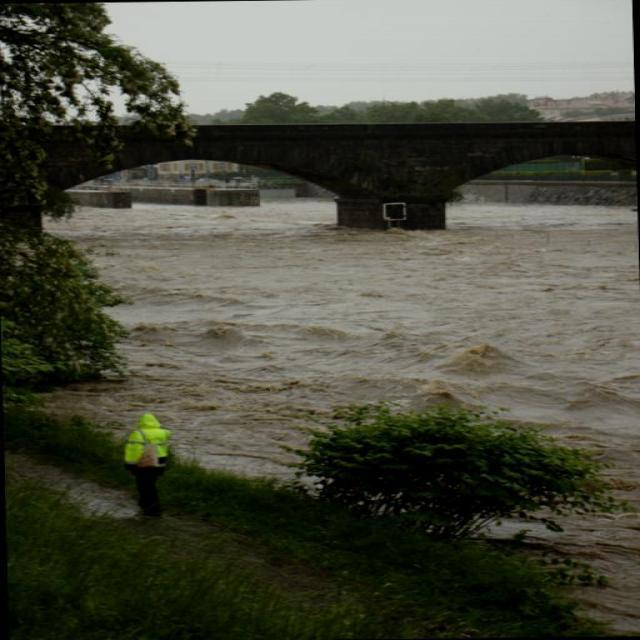flood: (34, 192, 639, 491)
